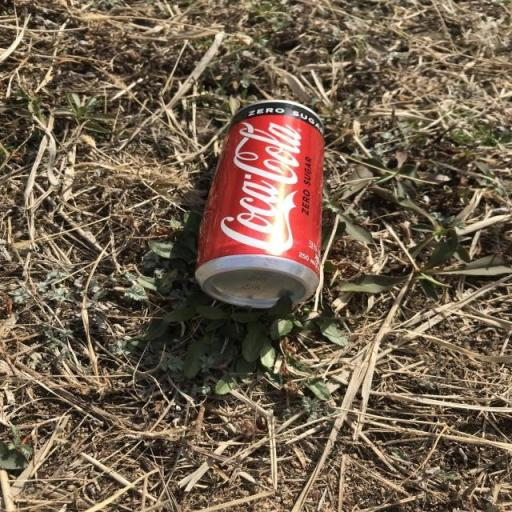metal: (135, 62, 403, 340)
